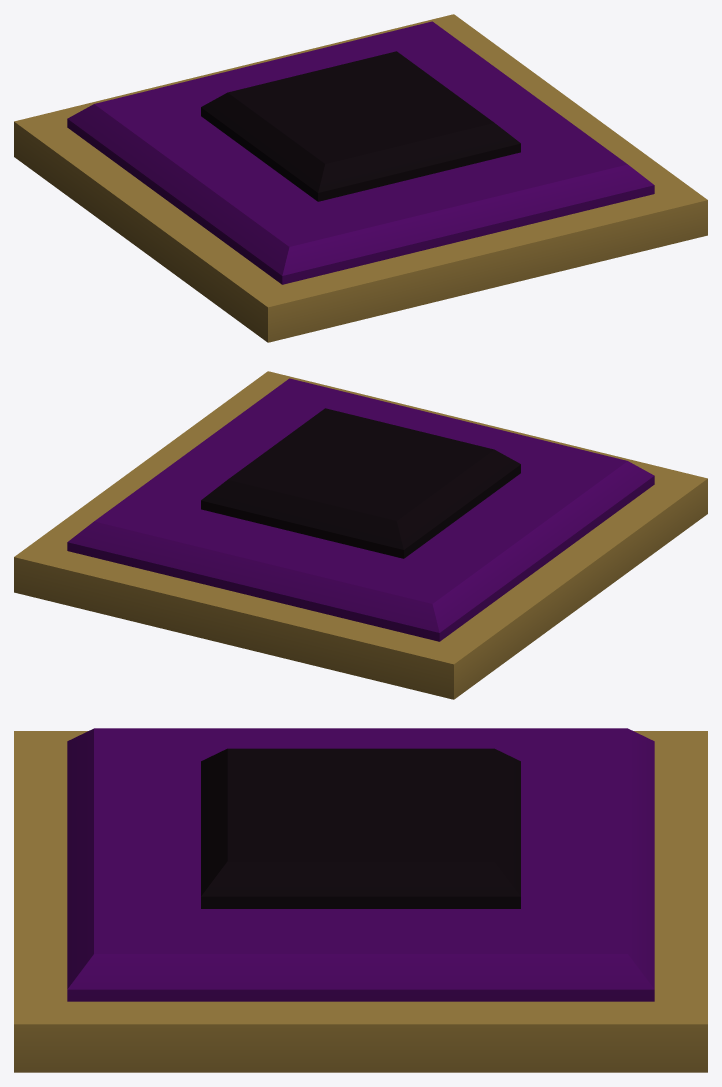
File: quantum-processor.glb
The picture shows the model from 3 angles, top to bottom: view 1: azimuth 30°, elevation 25°; view 2: azimuth 150°, elevation 25°; view 3: azimuth 270°, elevation 25°; orthographic projection. The views are drawn at different scales.
Visible parts, largest first — view 1: quantum-processor; view 2: quantum-processor; view 3: quantum-processor.
Boxes of the visible parts, x1=… form: quantum-processor: x1=14, y1=14, x2=707, y2=342; quantum-processor: x1=14, y1=371, x2=707, y2=699; quantum-processor: x1=14, y1=728, x2=707, y2=1072.
Size of the model in its own units: 0.26 by 0.05 by 0.26.
